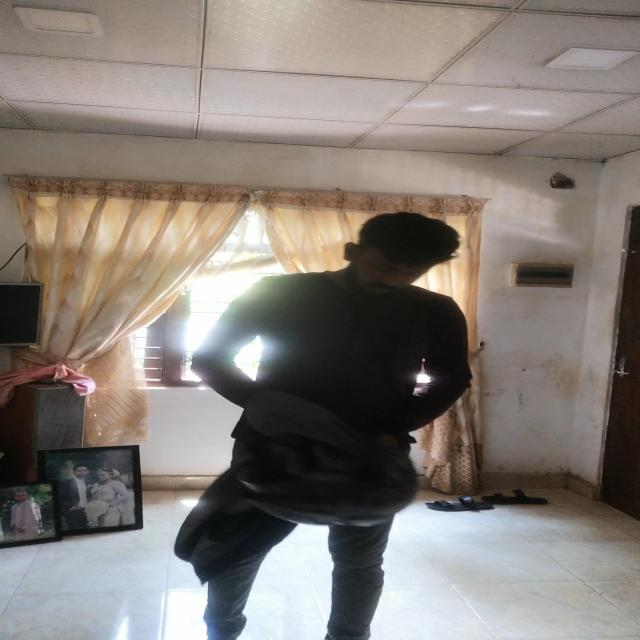Person: (185, 196, 483, 640)
